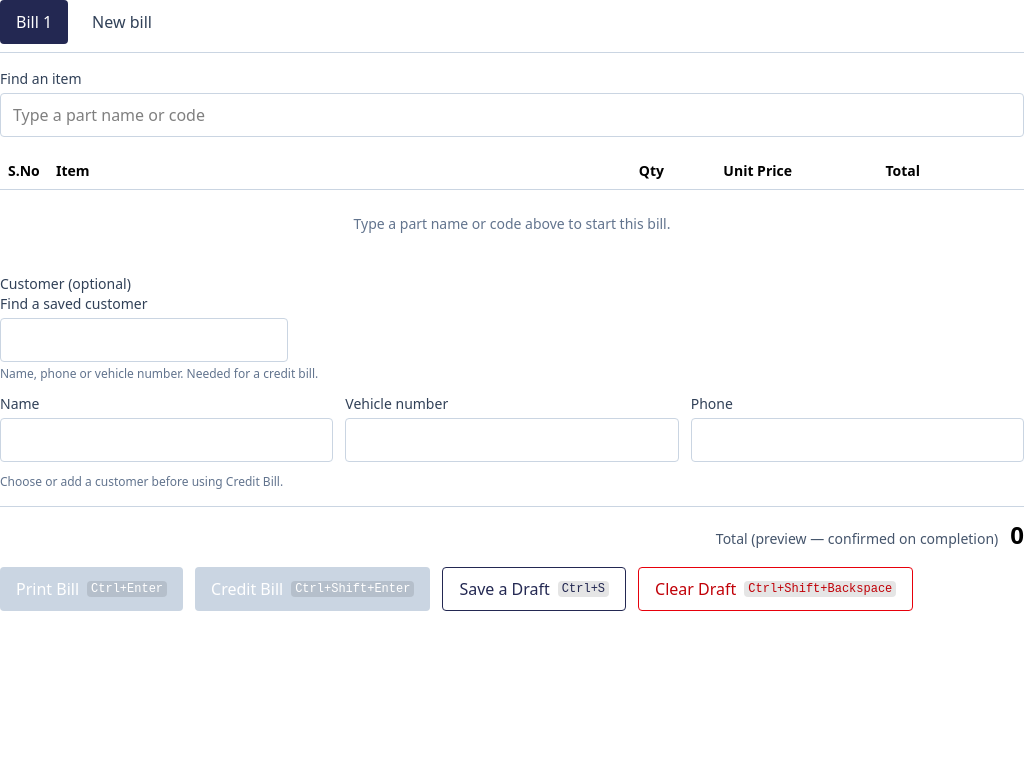
Test: Clear Draft asks first › keeps the bill when the user backs out
Click the button "Clear Draft Ctrl+Shift+Backspace" at [776, 589], box [638, 567, 913, 611]
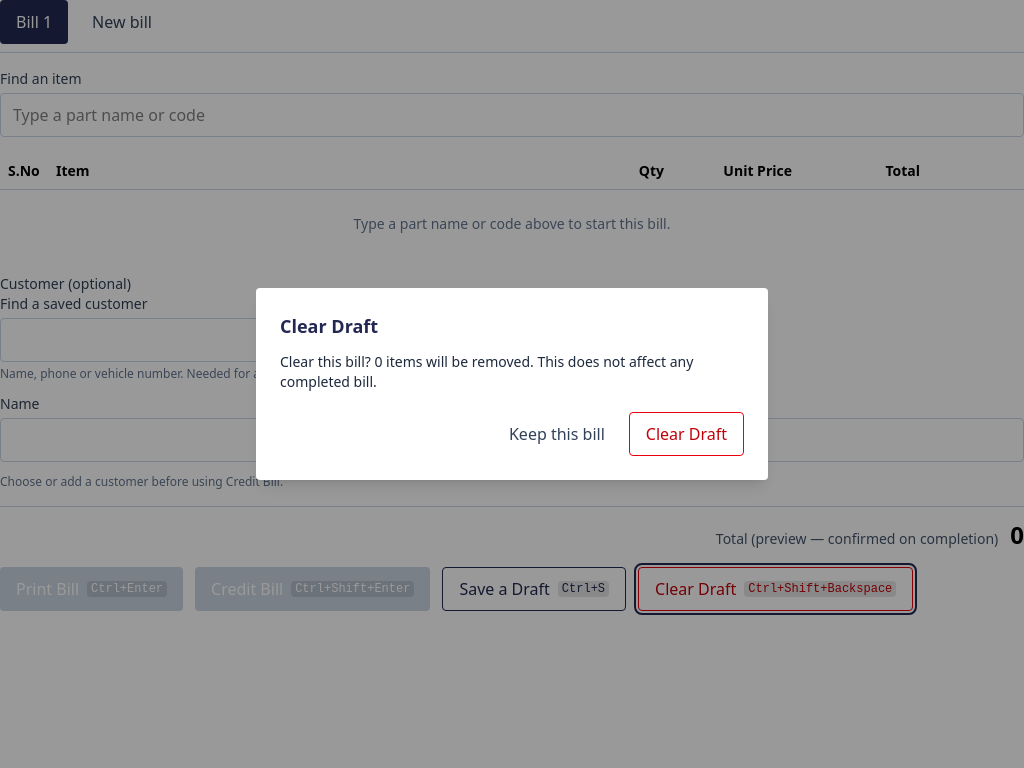
Click the button "Keep this bill" at [557, 434], box [493, 412, 621, 456]
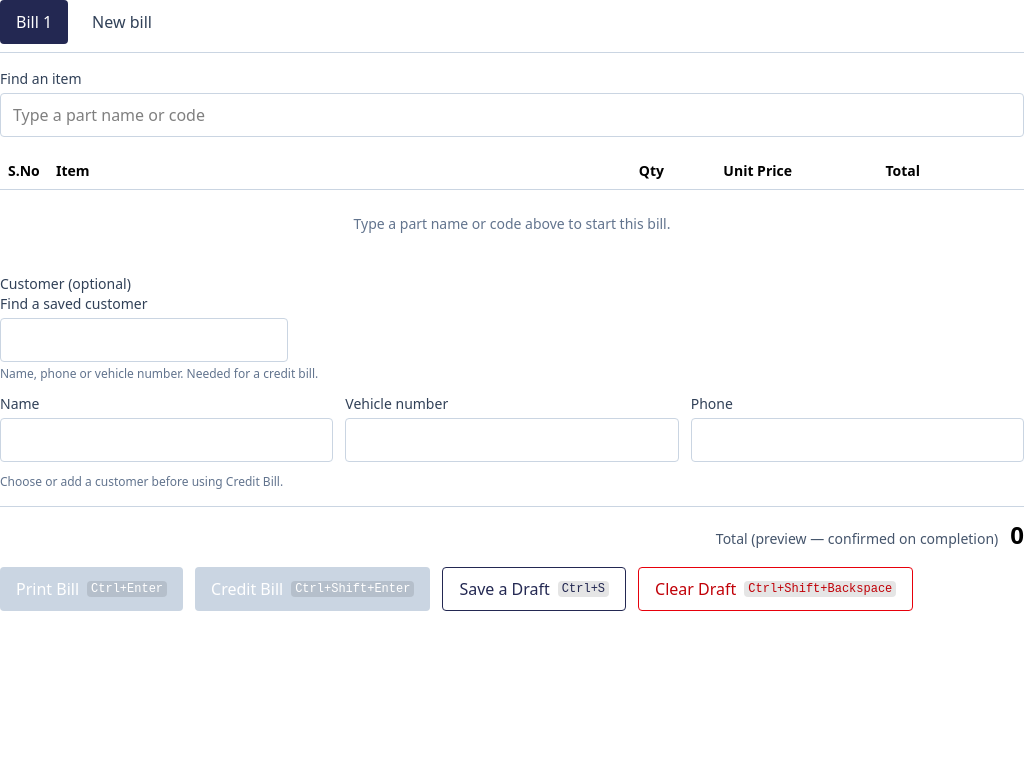
Result: the dialog is gone
